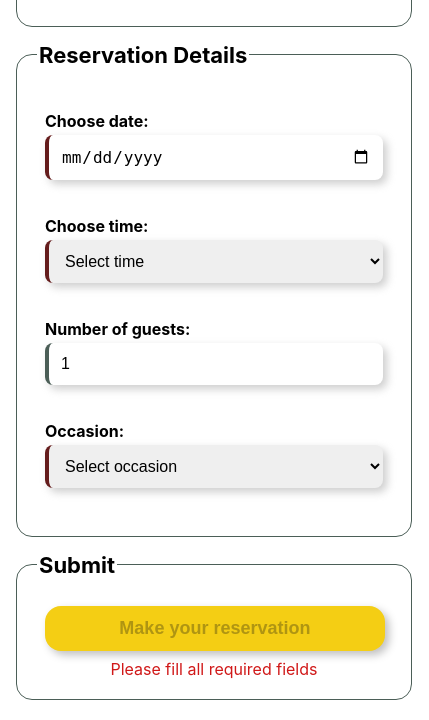
Test: Error fields › show error when entering more than 10 guests
The width and height of the screenshot is (429, 720).
(page scrolled)
Type "100" into the number field labelled "Number of guests:" at [214, 364], box x1=45 y1=343 x2=383 y2=385
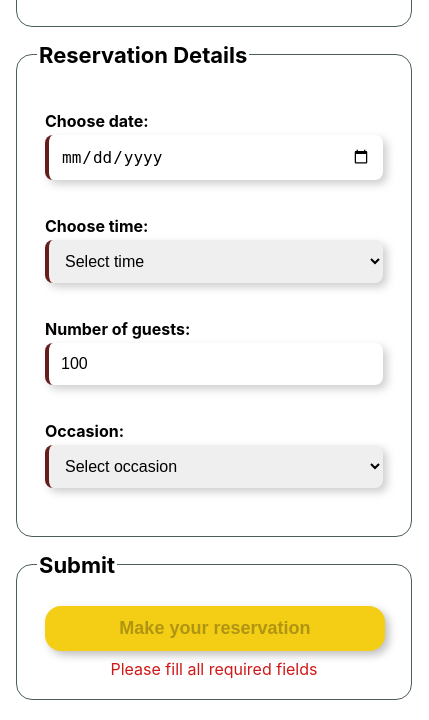
Leave the number field labelled "Number of guests:", box x1=45 y1=343 x2=383 y2=385
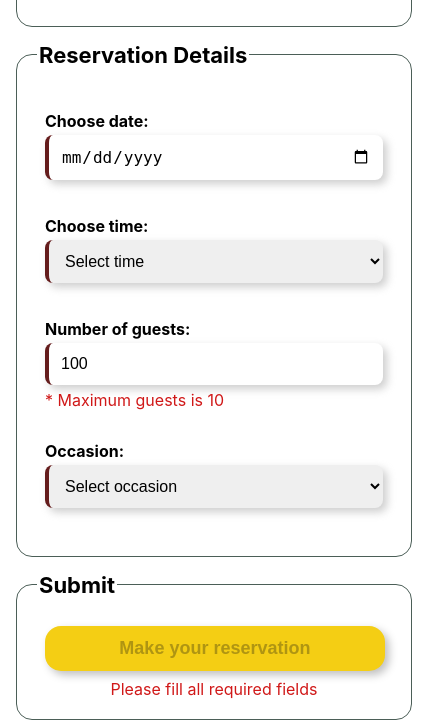
Result: the text "* Maximum guests is 10" is shown at x1=45 y1=390 x2=224 y2=410
